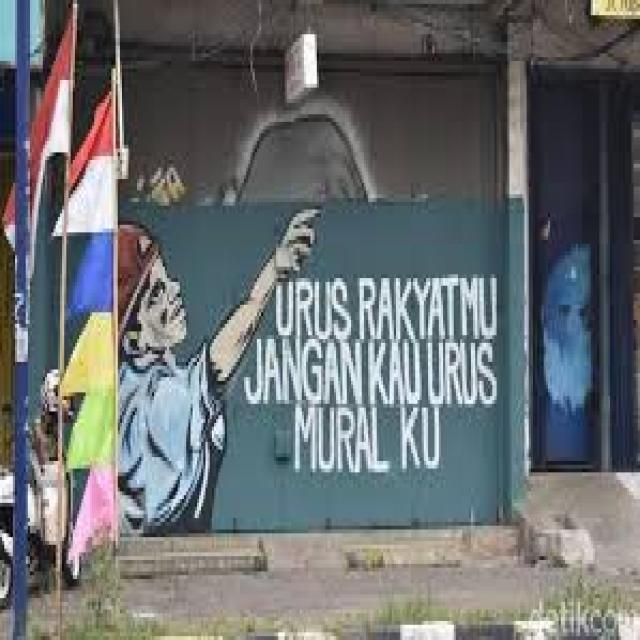-: (118, 206, 498, 534)
